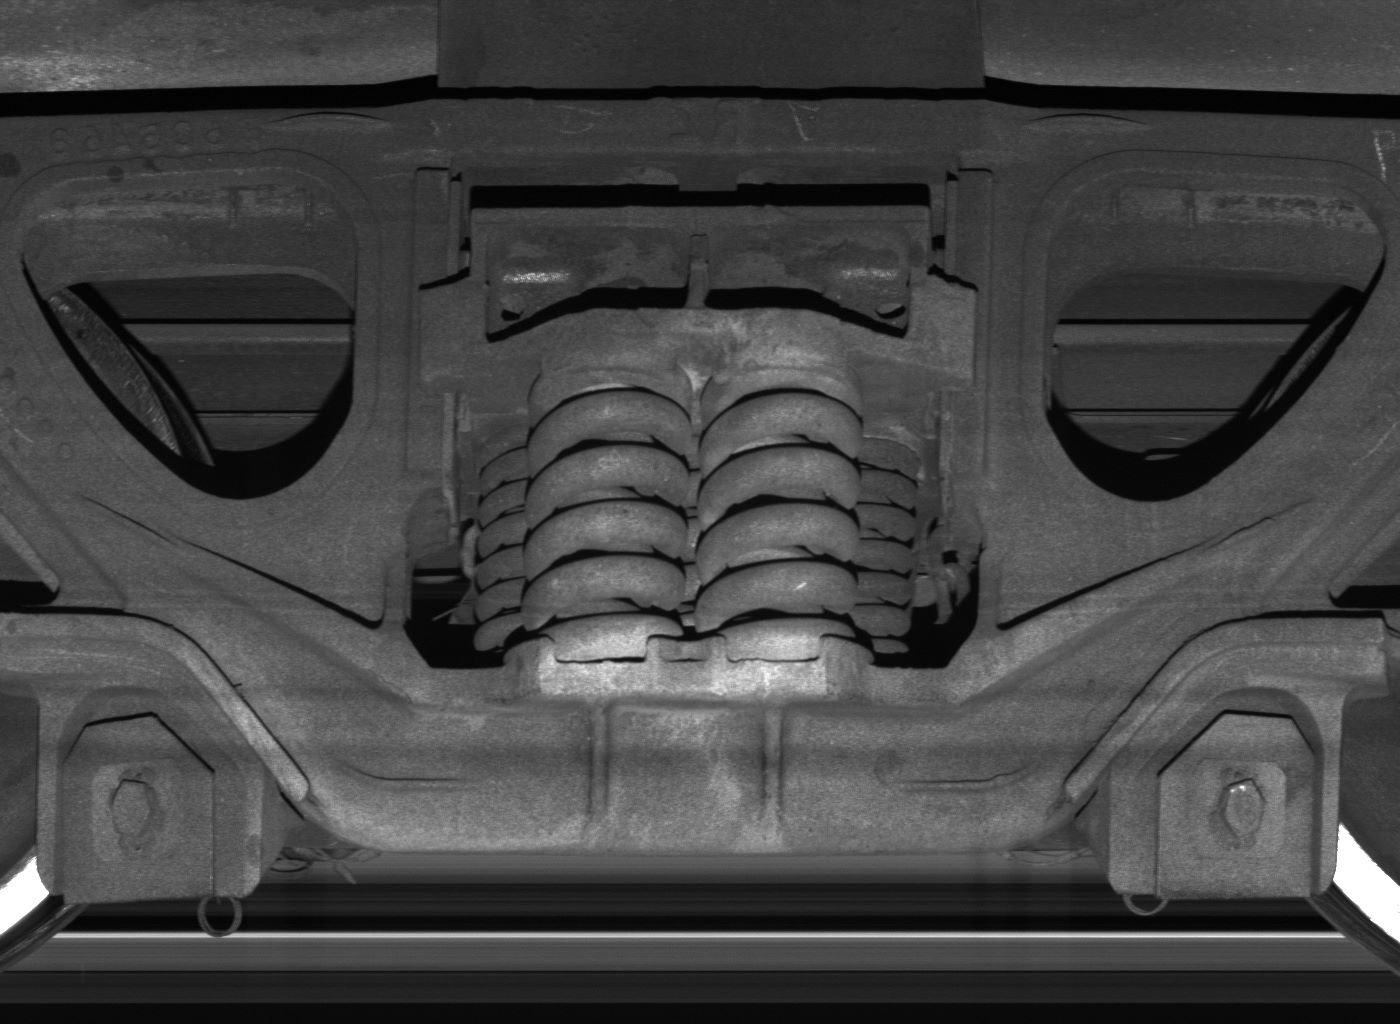normal: (1107, 684, 1342, 899), (40, 689, 259, 901)
